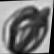correct: (0, 2, 53, 54)
